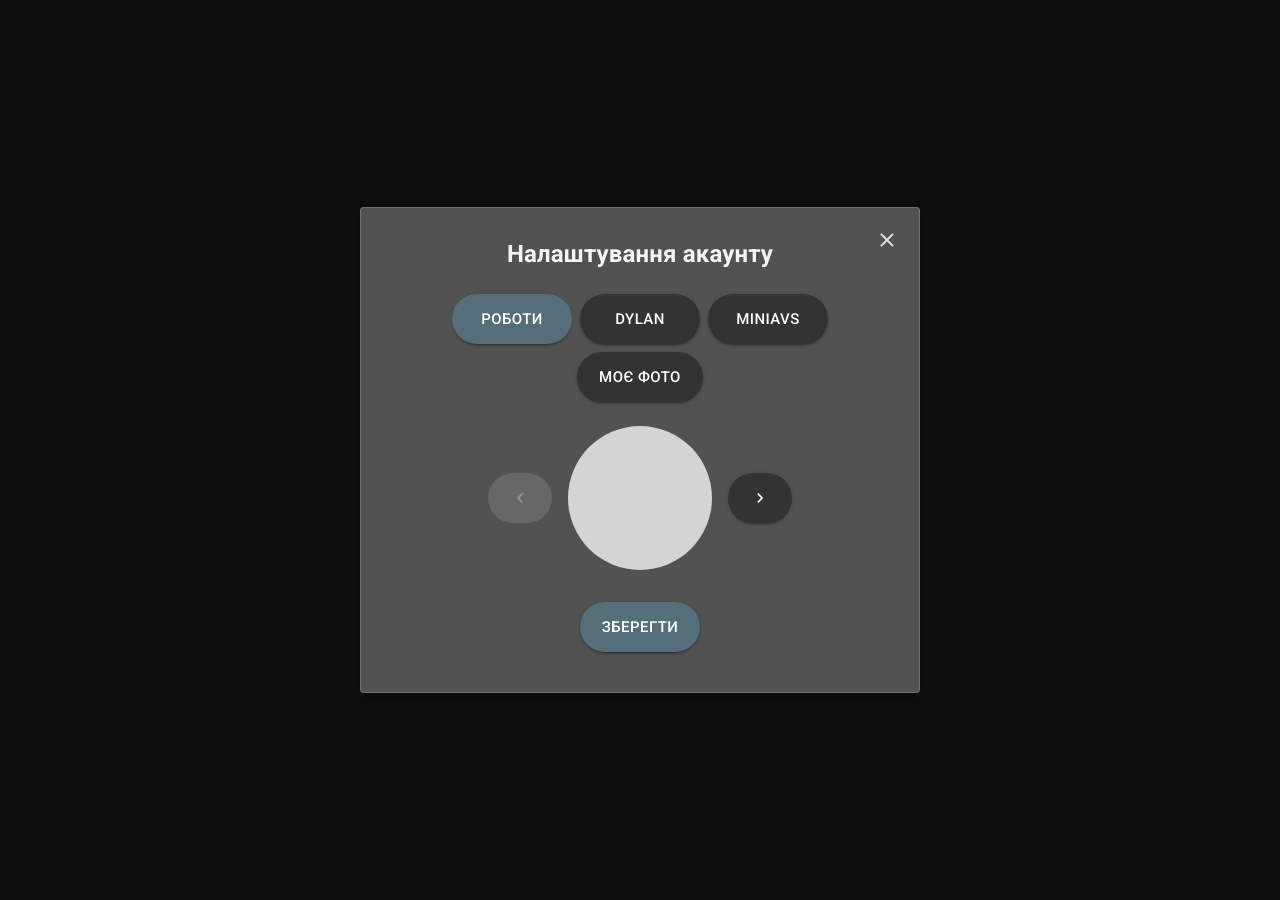
Test: UserSettingsModal save flow › reports a profile write failure without closing
This screenshot has width=1280, height=900.
Click the button "Зберегти". click: (640, 627)
box: x1=580 y1=602 x2=700 y2=652
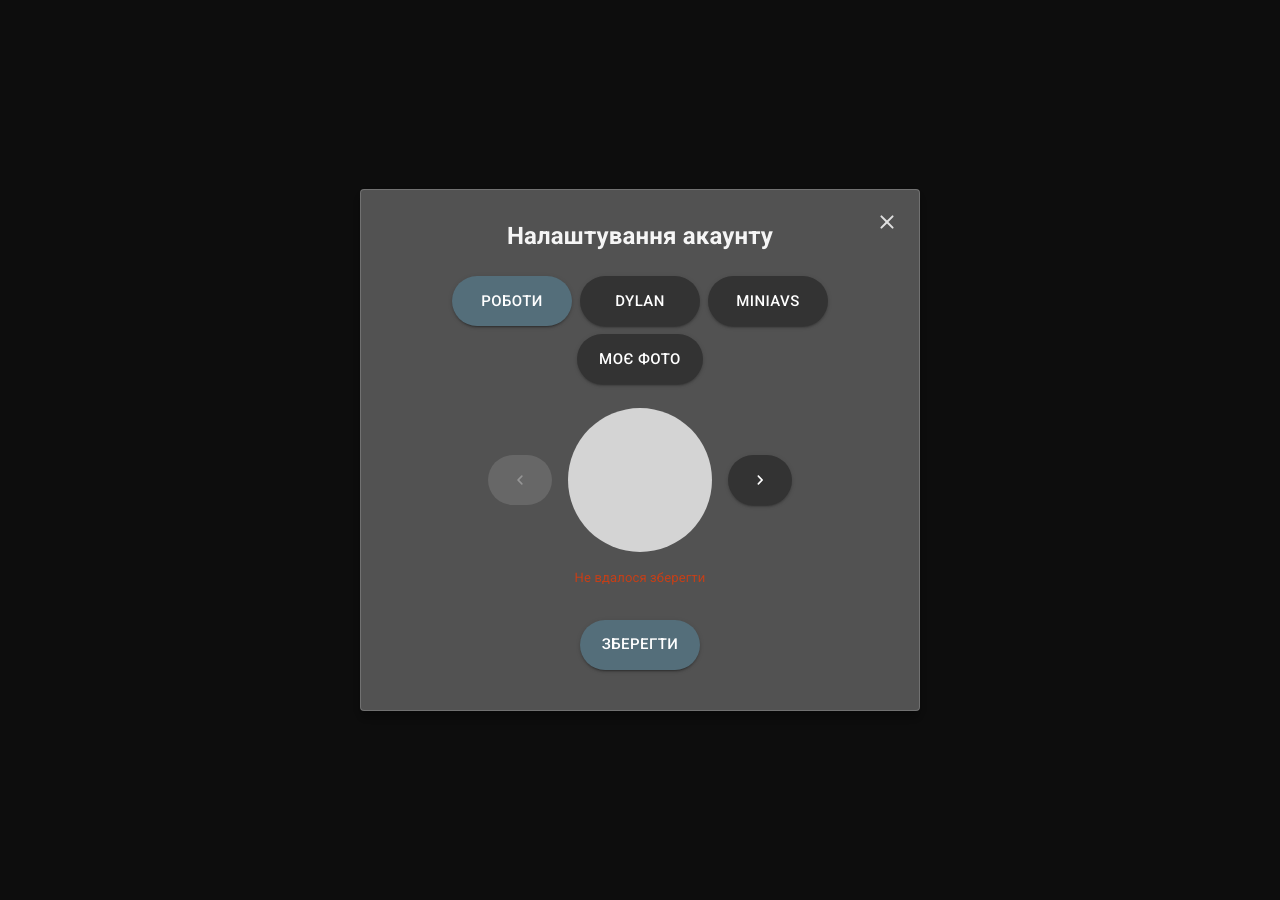
Expected: the button "Зберегти" is enabled, x1=580 y1=620 x2=700 y2=670
Result: the text "Не вдалося зберегти" is shown at x1=575 y1=570 x2=705 y2=585
